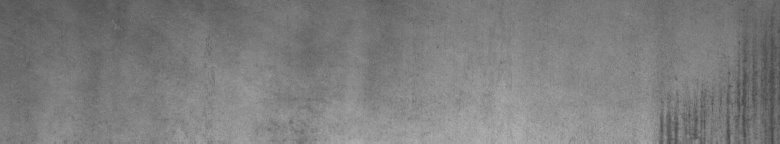ka: (656, 71, 776, 136)
